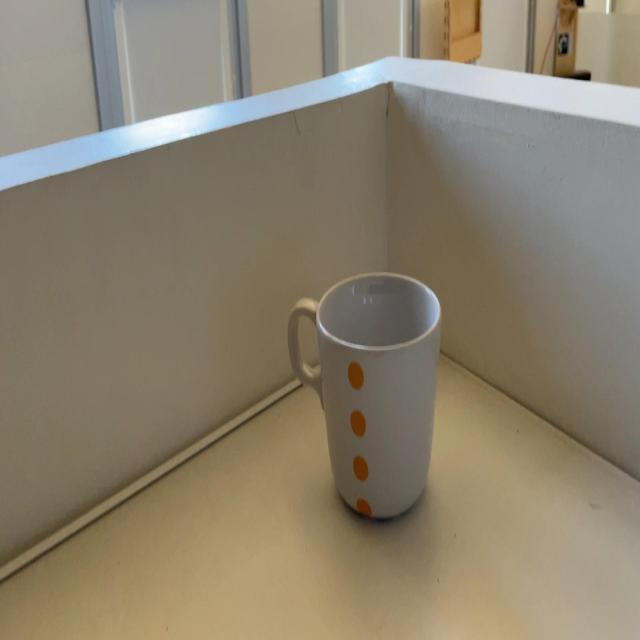cup: (287, 268, 452, 515)
